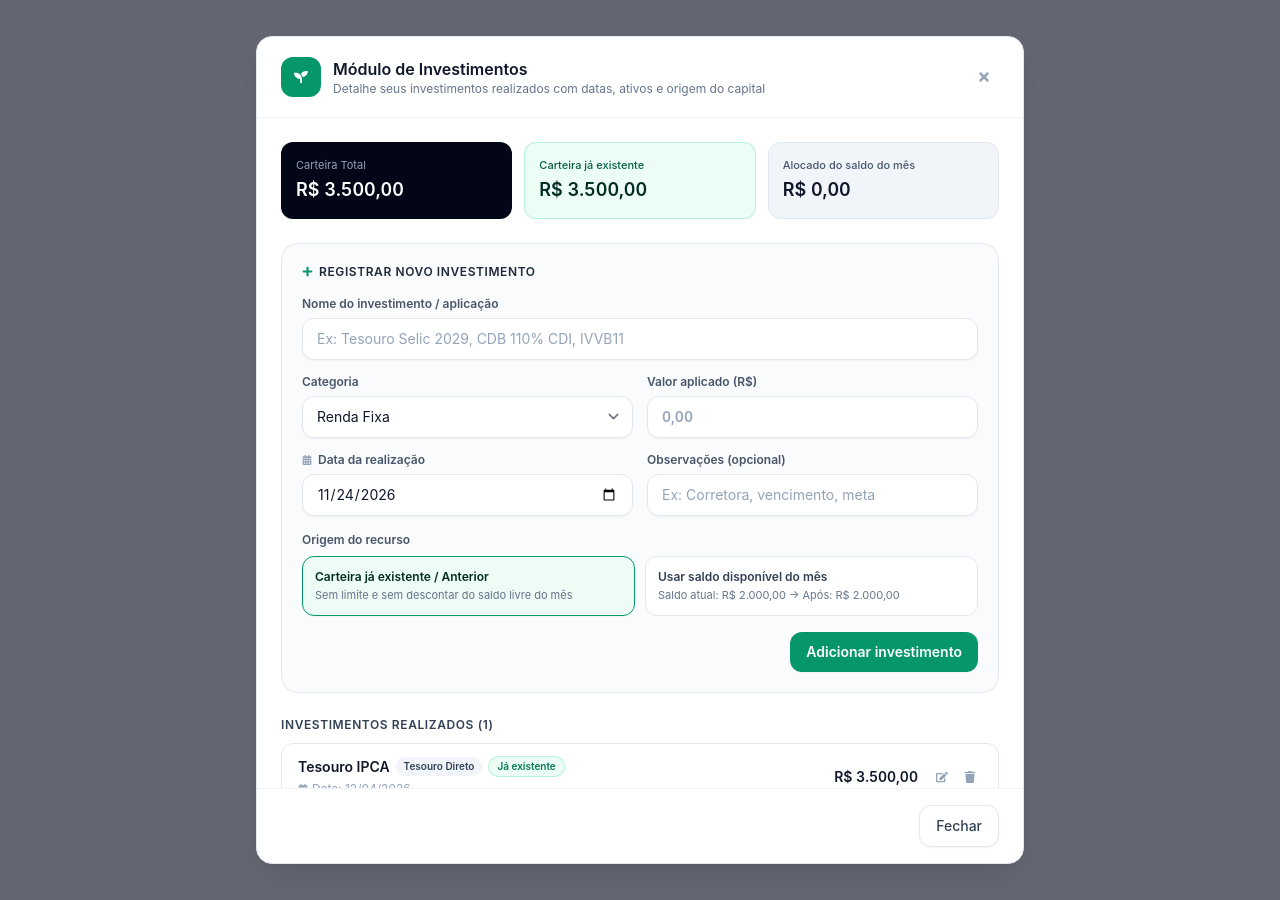
Test case: InvestmentsModal › renders existing dated investment items and allows editing a record
Later steps or results of the test are not shown.
Check: the text "Tesouro IPCA" is shown, box [298,756,390,776]
Click the button titled "Editar investimento": (942, 776) [930,764,954,788]
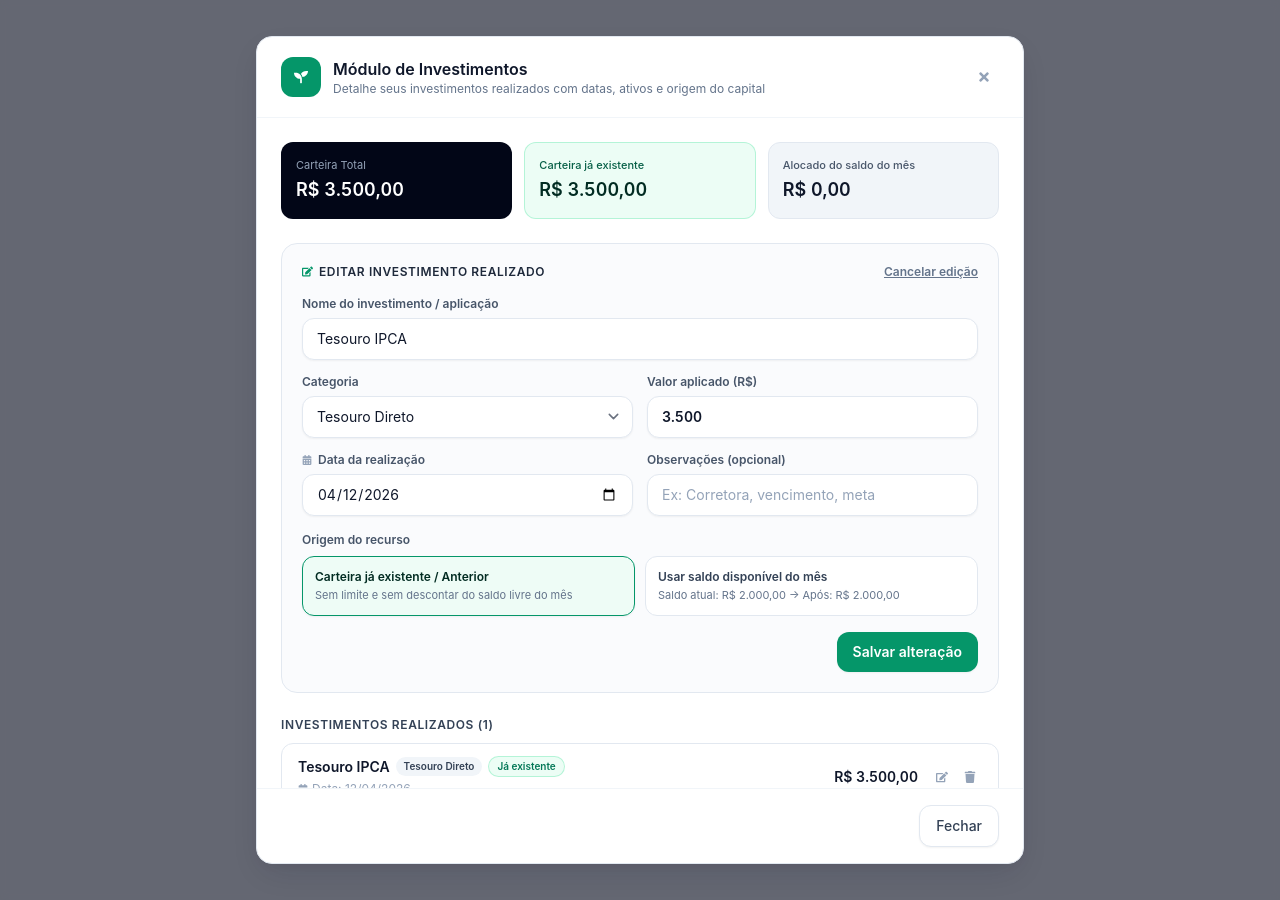
Check: the field with placeholder "Ex: Tesouro Selic 2029, CDB 110% CDI, IVVB11" below "Nome do investimento / aplicação" holds "Tesouro IPCA", box [302,318,978,360]
